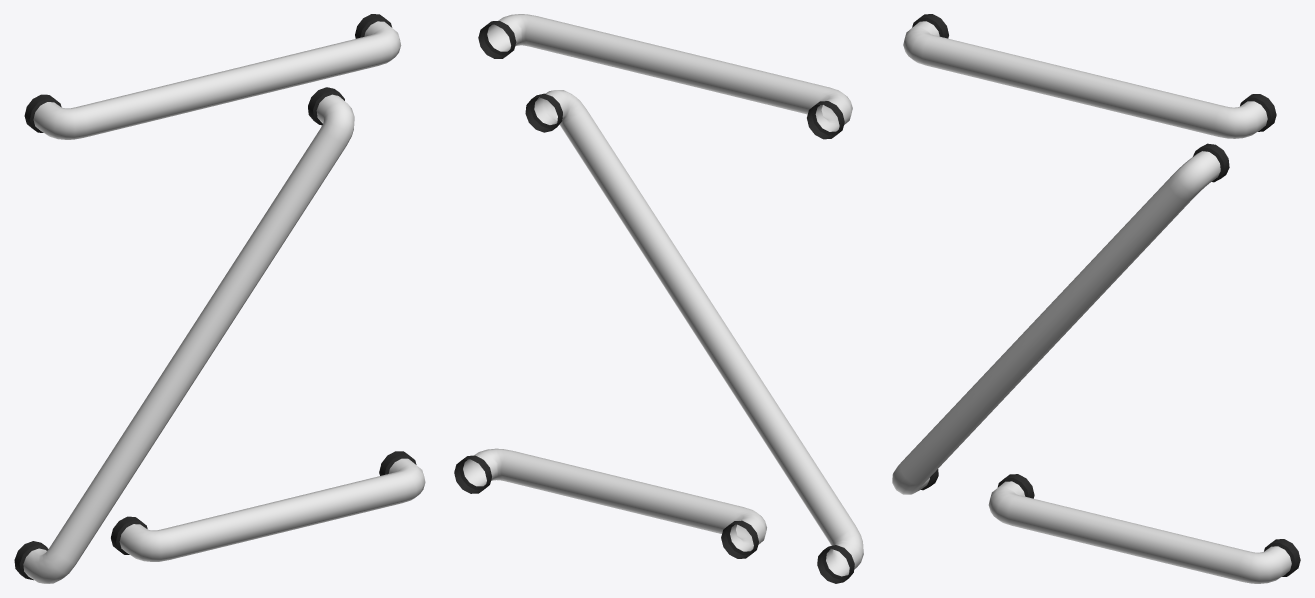
The model's file is LettersNeon01_Z.FBX.
The picture shows the model from 3 angles, left to right: view 1: azimuth 30°, elevation 25°; view 2: azimuth 150°, elevation 25°; view 3: azimuth 330°, elevation 25°; orthographic projection.
Parts seen in each view (by area): view 1: LettersNeon01_Z; view 2: LettersNeon01_Z; view 3: LettersNeon01_Z.
Part boxes in pixels (<box>): LettersNeon01_Z: <box>14,14,425,583</box>; LettersNeon01_Z: <box>454,14,863,583</box>; LettersNeon01_Z: <box>892,14,1300,583</box>.
Size of what is drawn, in the model's own units: 0.4356 by 0.501 by 0.054.
